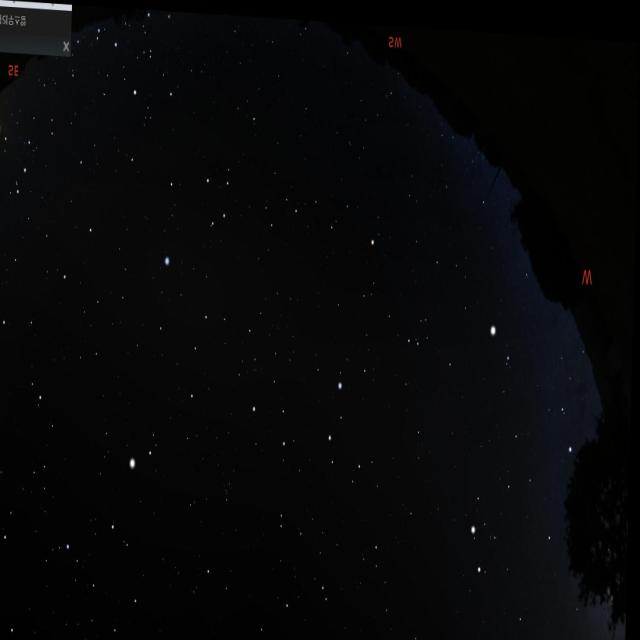bootes: (82, 442, 165, 640)
canis_minor: (482, 299, 528, 372)
gemini: (461, 408, 595, 592)
leo: (250, 354, 384, 502)
scorpius: (0, 90, 38, 211)
